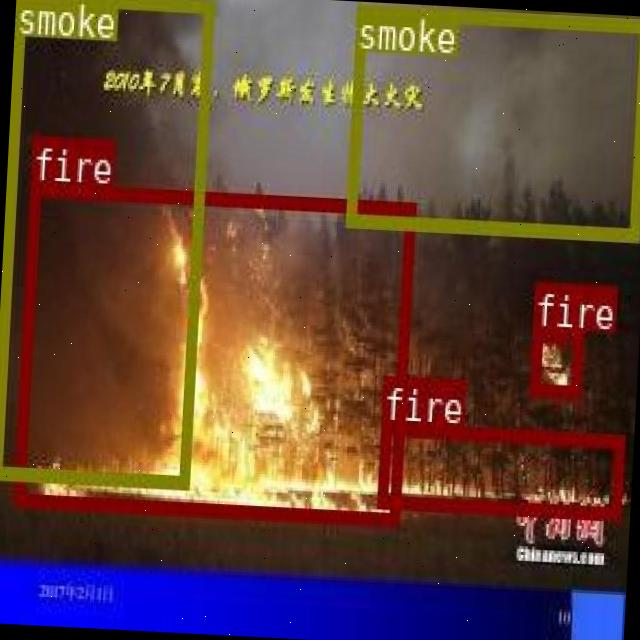fire: (12, 182, 414, 522), (376, 422, 622, 517), (528, 327, 582, 398)
smoke: (0, 0, 213, 486), (344, 3, 640, 240)
